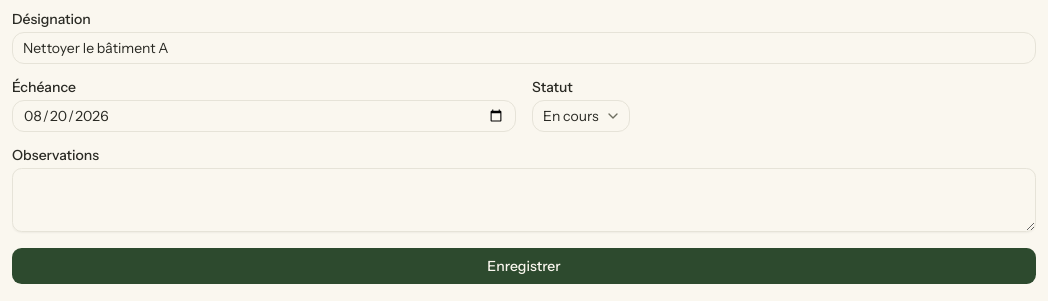
Test: EmployeeTaskForm (édition — tâche fournie) › le sélecteur de statut ne propose jamais Annulée
Click the dropdown named "Statut" at (581, 116), box x1=532 y1=100 x2=630 y2=132
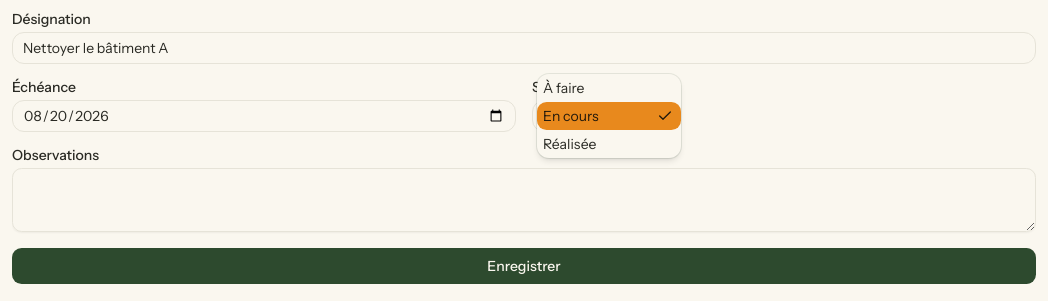
Expected: the option "À faire" is shown, x1=543 y1=79 x2=584 y2=97
Expected: the option "En cours" is shown, x1=537 y1=102 x2=681 y2=130
Expected: the option "Réalisée" is shown, x1=543 y1=135 x2=596 y2=153
